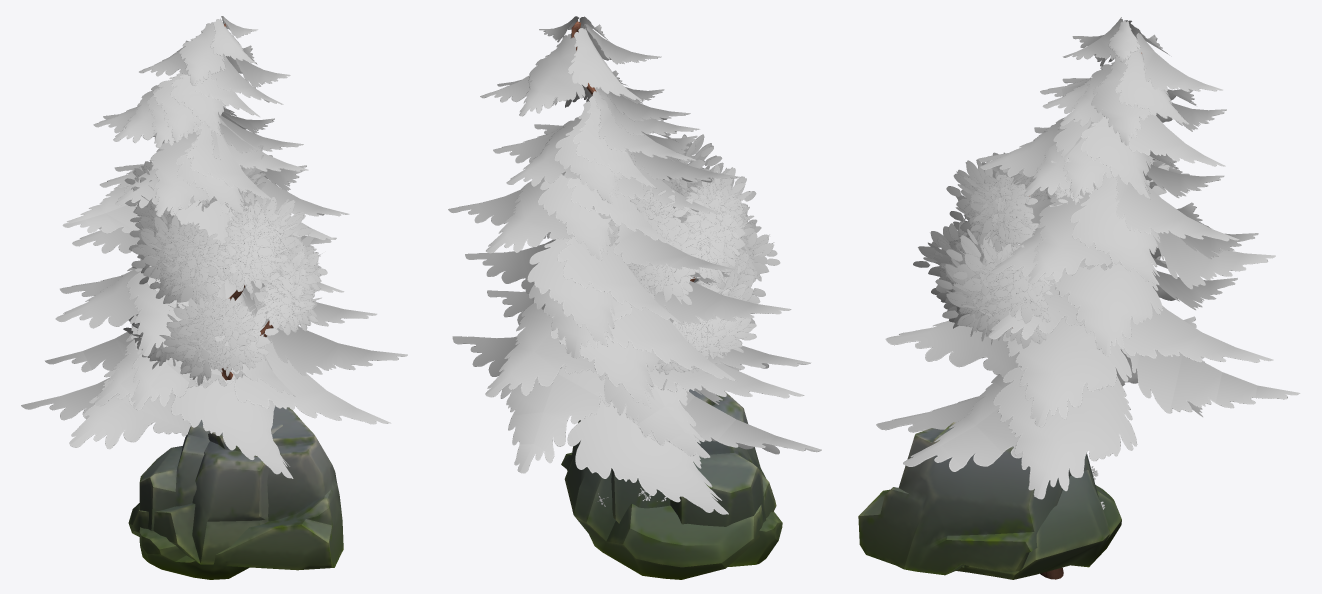
File: nature-DcdE22Et.glb
The picture shows the model from 3 angles, left to right: view 1: azimuth 30°, elevation 25°; view 2: azimuth 150°, elevation 25°; view 3: azimuth 270°, elevation 25°; orthographic projection. The views are drawn at different scales.
Parts seen in each view (by area): view 1: Pine_5, CommonTree_5, Rock_Medium_3, Rock_Medium_1; view 2: Pine_5, CommonTree_5, Rock_Medium_1, Rock_Medium_3; view 3: Pine_5, Rock_Medium_3, CommonTree_5, Rock_Medium_1.
Boxes of the visible parts, x1,y1,x2,y2 form: Pine_5: (21,16,407,478); CommonTree_5: (123,145,327,385); Rock_Medium_3: (139,406,343,579); Rock_Medium_1: (128,424,282,564); Pine_5: (448,16,821,514); CommonTree_5: (592,134,780,390); Rock_Medium_1: (564,389,776,579); Rock_Medium_3: (561,420,782,566); Pine_5: (876,17,1299,499); Rock_Medium_3: (858,422,1098,575); CommonTree_5: (913,150,1169,579); Rock_Medium_1: (956,470,1121,579).
Bounding box in the file's own units: 6.42 × 8.8 × 6.36.
Materials: 5 (5 with a texture image).
